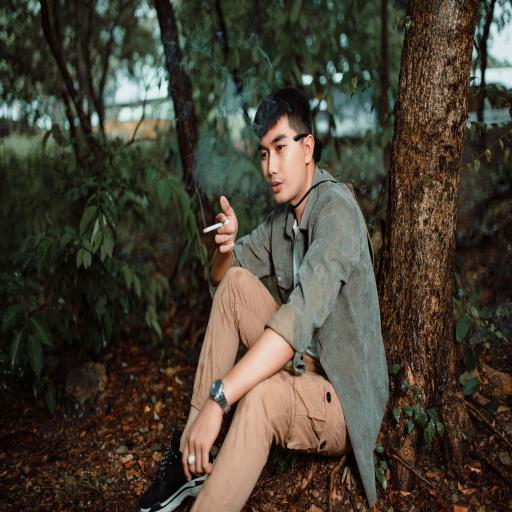terdeteksi pegang rokok: (197, 176, 240, 268)
